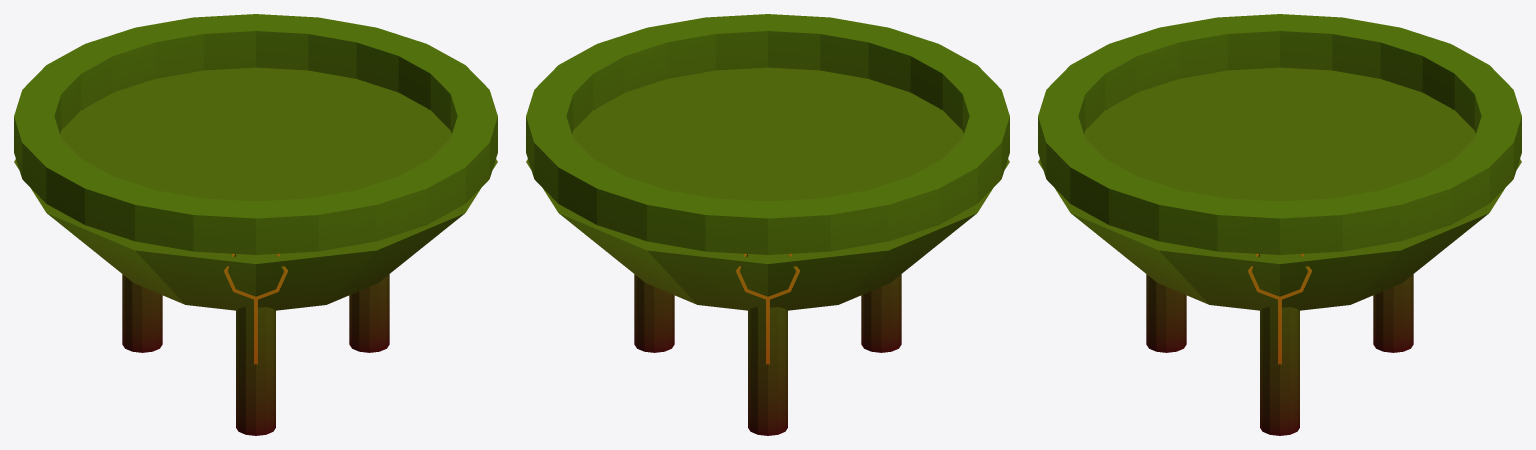
Rendered from brazier.glb.
The picture shows the model from 3 angles, left to right: view 1: azimuth 30°, elevation 25°; view 2: azimuth 150°, elevation 25°; view 3: azimuth 270°, elevation 25°; orthographic projection.
Visible parts, largest first — view 1: brazier; view 2: brazier; view 3: brazier.
Boxes of the visible parts, x1,y1,x2,y2 form: brazier: (14, 14, 497, 435); brazier: (526, 14, 1009, 435); brazier: (1038, 14, 1521, 435).
Size of what is drawn, in the model's own units: 2.4 by 1.4 by 2.4.
